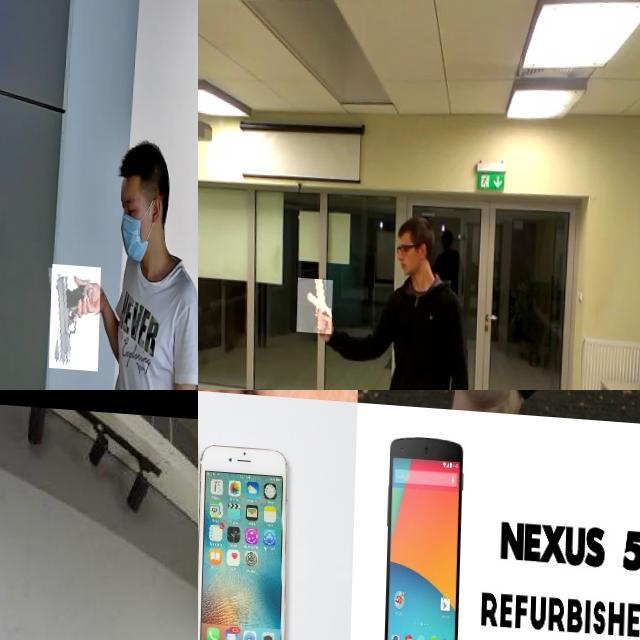gun-knife-thesis - v11 Yolov5 augmented: (52, 260, 102, 367), (299, 274, 335, 330)
